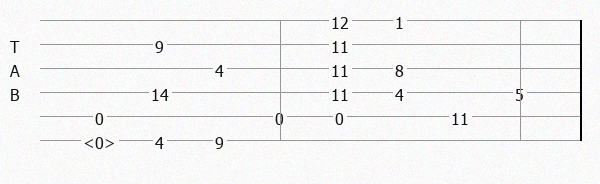0: (95, 108, 108, 124), (275, 108, 288, 124), (335, 108, 348, 124)
1: (395, 12, 408, 28)
11: (331, 60, 353, 76), (331, 36, 353, 52), (331, 84, 353, 100), (451, 108, 473, 124)
12: (331, 12, 353, 28)
14: (151, 84, 173, 100)
4: (155, 132, 168, 148), (215, 60, 228, 76), (395, 84, 408, 100)
5: (515, 84, 528, 100)
8: (395, 60, 408, 76)
9: (155, 36, 168, 52), (215, 132, 228, 148)
harmonic: (83, 132, 120, 148)
